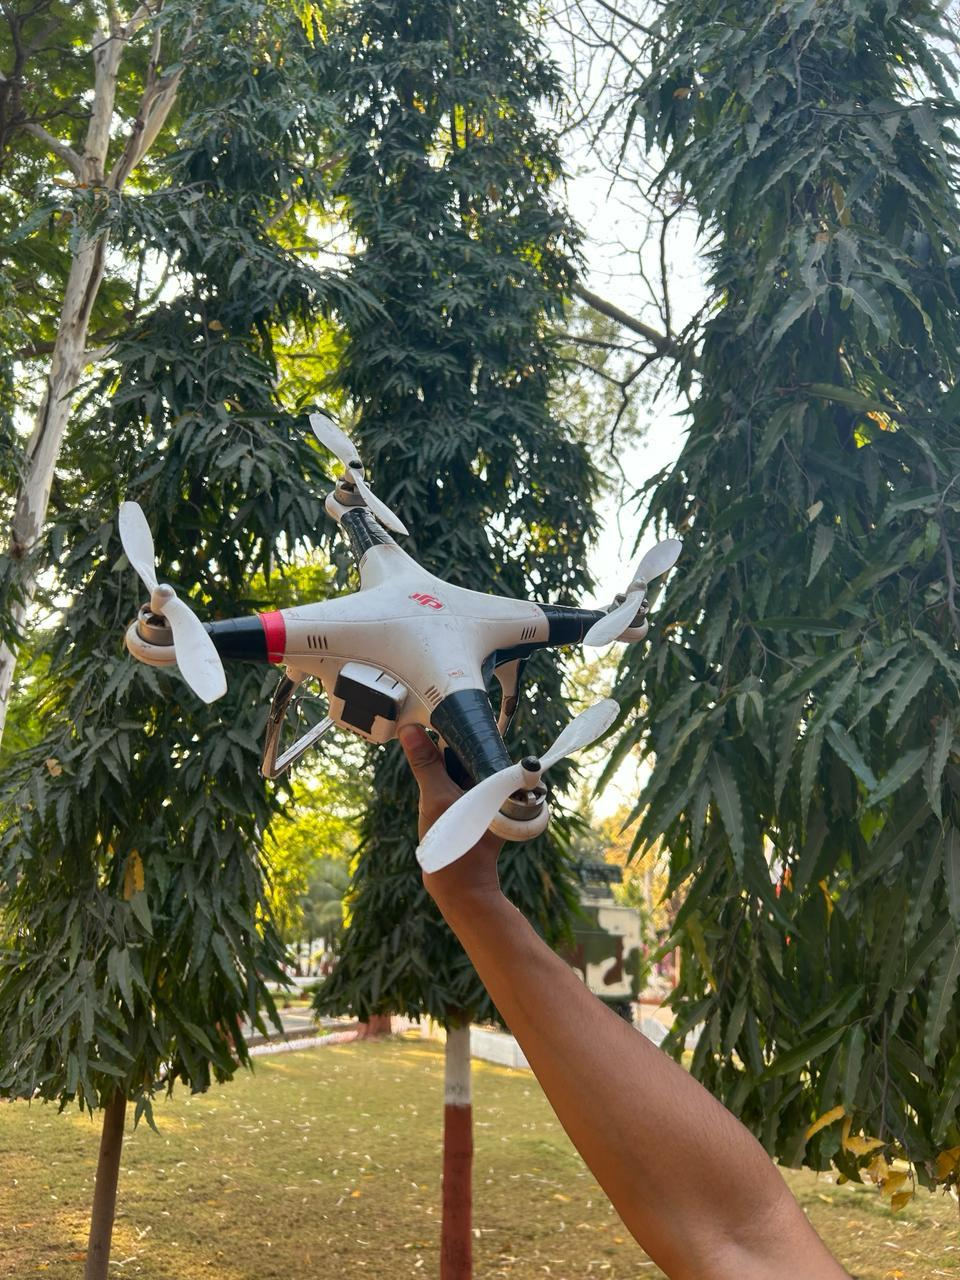drone: (84, 371, 719, 900)
